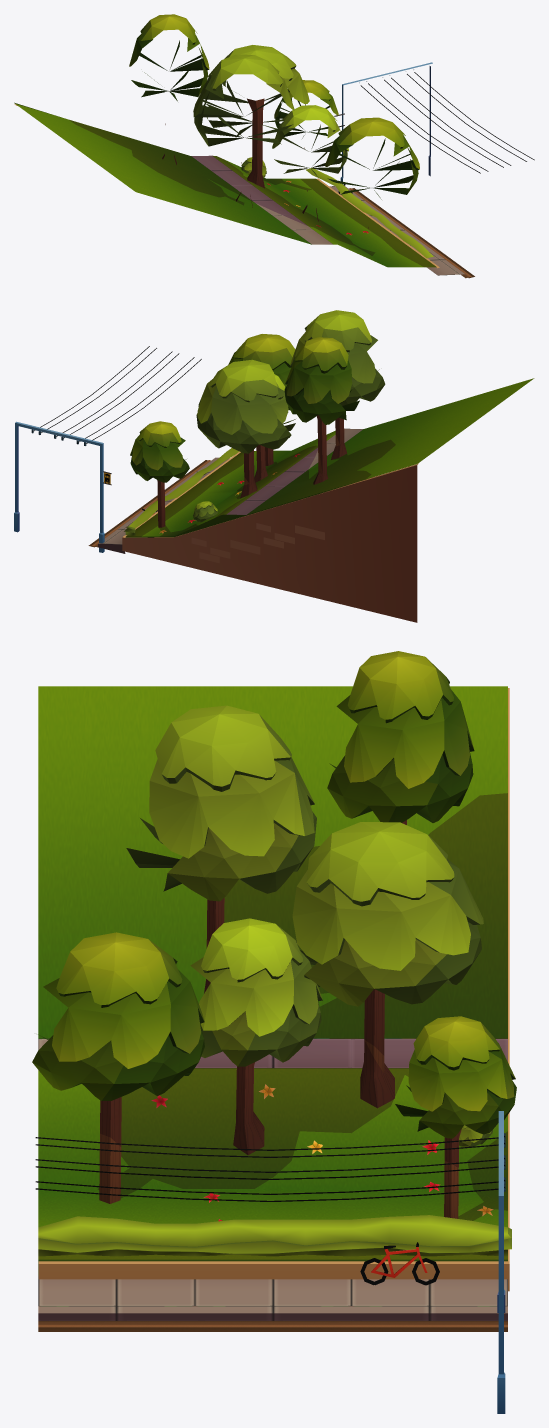
The model's file is 1.100_SanFrancisco_low_01_right.glb.
3 views of the same model, one above another, from view 1: azimuth 30°, elevation 25°; view 2: azimuth 150°, elevation 25°; view 3: azimuth 270°, elevation 25° (orthographic). The views are drawn at different scales.
Parts seen in each view (by area): view 1: 1.100_SanFrancisco_low_01_right; view 2: 1.100_SanFrancisco_low_01_right; view 3: 1.100_SanFrancisco_low_01_right.
Boxes of the visible parts, x1,y1,x2,y2 form: 1.100_SanFrancisco_low_01_right: (14,14,534,278); 1.100_SanFrancisco_low_01_right: (14,310,534,622); 1.100_SanFrancisco_low_01_right: (32,651,516,1413).
Bounding box in the file's own units: 358 × 204 × 186.
Materials: 2 (2 with a texture image).
